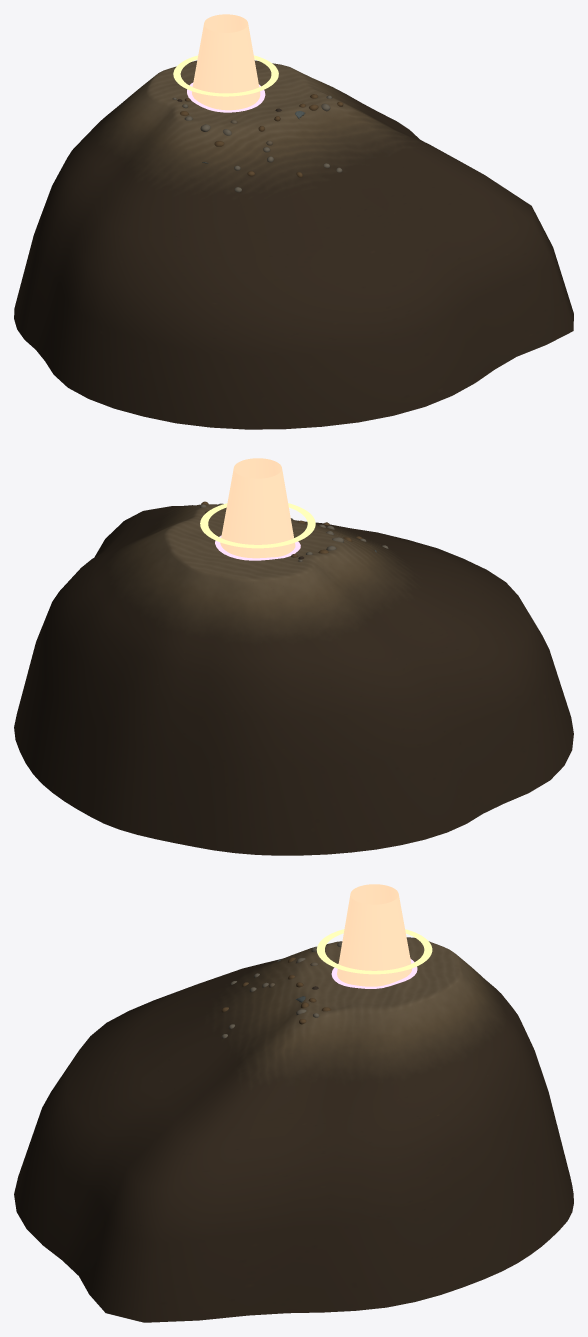
File: shore_piece.glb
The picture shows the model from 3 angles, top to bottom: view 1: azimuth 30°, elevation 25°; view 2: azimuth 150°, elevation 25°; view 3: azimuth 270°, elevation 25°; orthographic projection. The views are drawn at different scales.
Parts seen in each view (by area): view 1: ShoreBank, Shaft, Reach; view 2: ShoreBank, Shaft, Reach; view 3: ShoreBank, Shaft, Reach.
Boxes of the visible parts, x1,y1,x2,y2 form: ShoreBank: (14, 60, 573, 429); Shaft: (192, 14, 260, 110); Reach: (173, 55, 278, 96); ShoreBank: (14, 501, 573, 855); Shaft: (220, 458, 295, 558); Reach: (200, 503, 315, 548); ShoreBank: (14, 937, 573, 1322); Shaft: (337, 884, 412, 986); Reach: (316, 929, 432, 974).
Bounding box in the file's own units: 42.87 × 24.5 × 41.65.
Materials: 2 (1 with a texture image).
